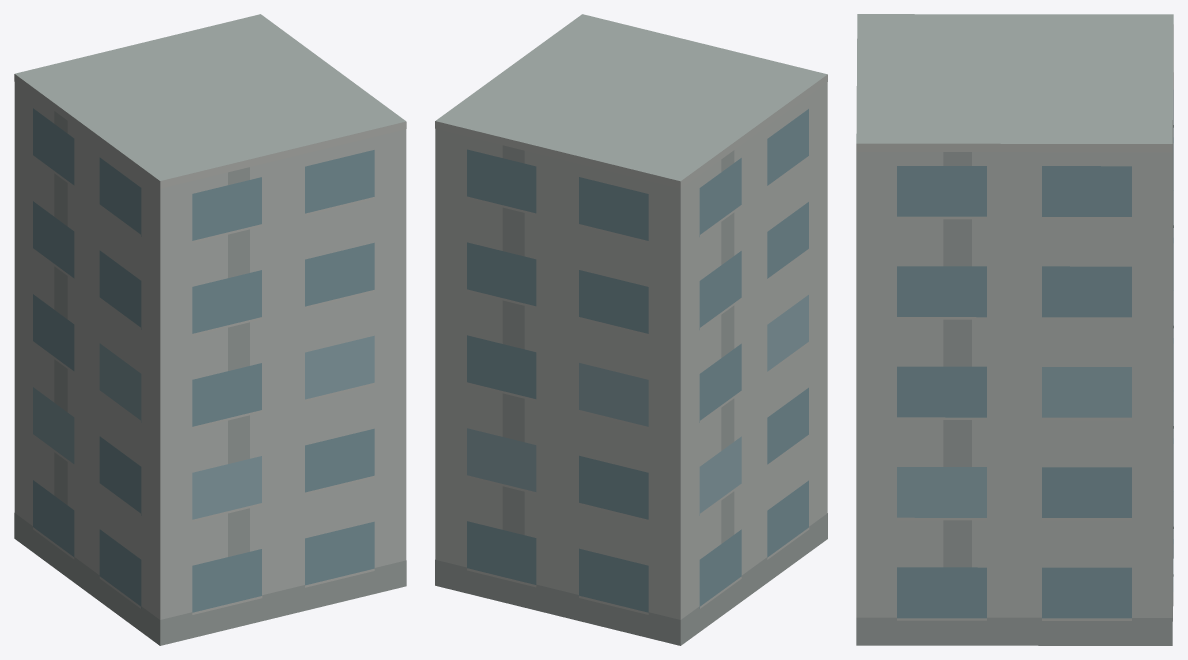
File: survey-upis-32824674.glb
3 renders of one model, left to right at view 1: azimuth 30°, elevation 25°; view 2: azimuth 150°, elevation 25°; view 3: azimuth 270°, elevation 25°, orthographic. The views are drawn at different scales.
Visible parts, largest first — view 1: survey-upis-32824674.tmp; view 2: survey-upis-32824674.tmp; view 3: survey-upis-32824674.tmp.
Part boxes in pixels (x1,y1,x2,y2): survey-upis-32824674.tmp: (14, 14, 406, 645); survey-upis-32824674.tmp: (435, 14, 827, 645); survey-upis-32824674.tmp: (856, 14, 1173, 645).
Size of the model in its own units: 8.18 by 14.7 by 8.44.
